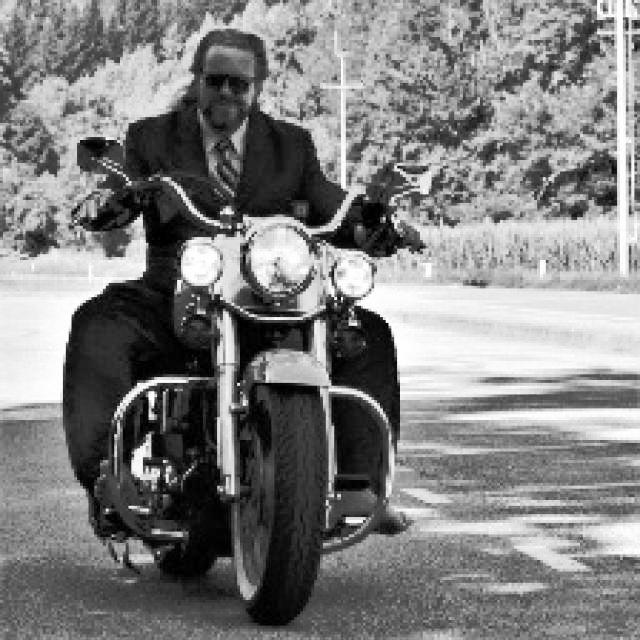Bike: (120, 201, 388, 623)
